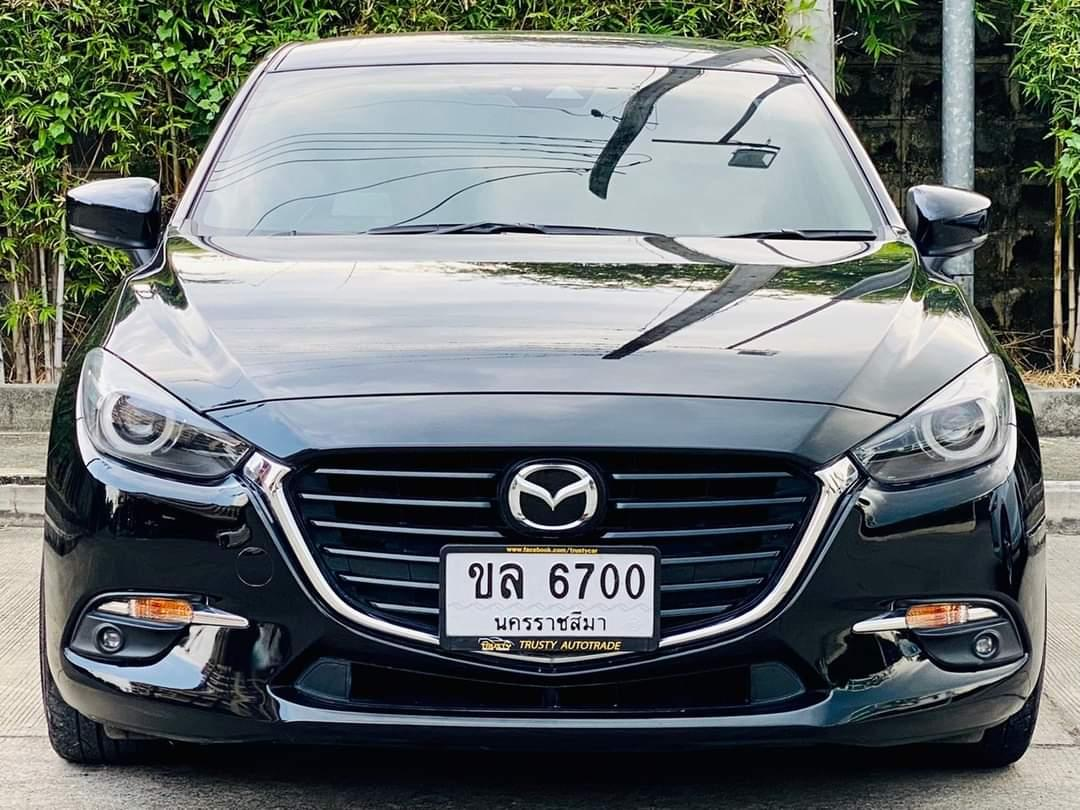license-plate: (437, 541, 662, 654)
